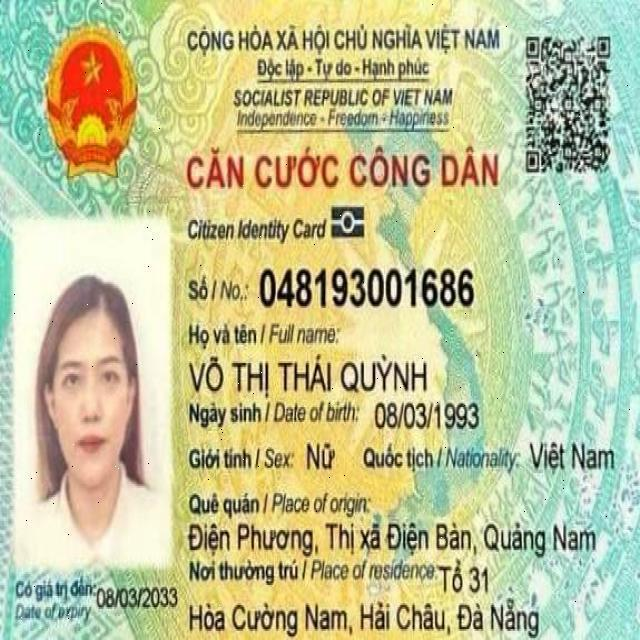current_place: (187, 596, 545, 640), (438, 557, 495, 598)
expire_date: (95, 580, 180, 611)
gender: (307, 436, 337, 473)
id: (260, 263, 476, 313)
name: (186, 353, 429, 399)
nationality: (525, 438, 618, 477)
origin_place: (186, 515, 599, 559)
